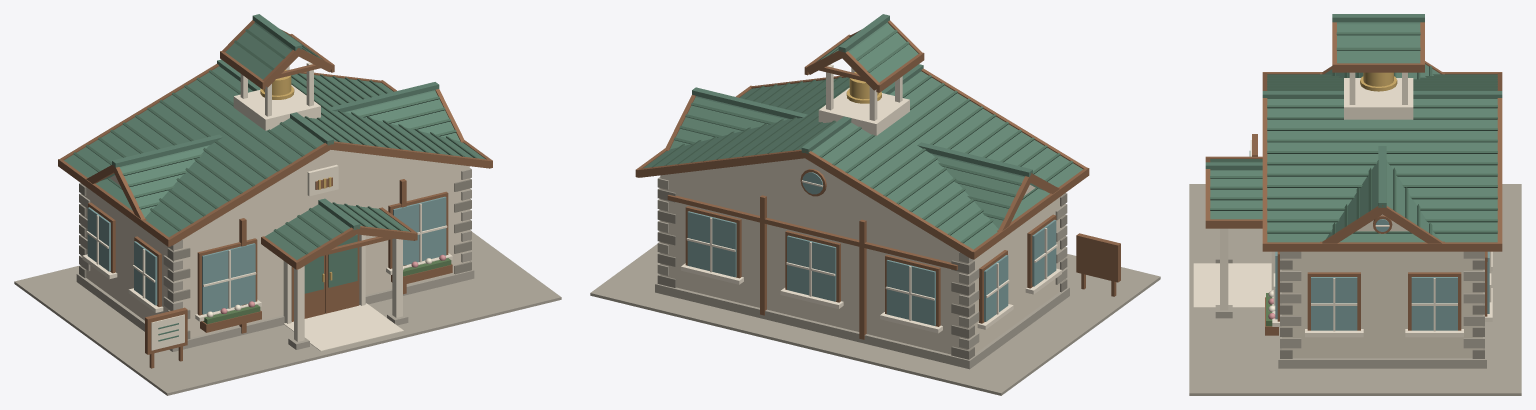
The model's file is town-hall.glb.
3 renders of one model, left to right at view 1: azimuth 30°, elevation 25°; view 2: azimuth 150°, elevation 25°; view 3: azimuth 270°, elevation 25°, orthographic. The views are drawn at different scales.
Parts seen in each view (by area): view 1: sage, stone, ivory, wood, trim, sageShade, glass, stoneShade, door-leaf-1, door-inlay-1, leaf, door-leaf--1 (+2 smaller); view 2: sage, ivory, stone, wood, glass, sageShade, trim, stoneShade, gold; view 3: sage, stone, sageShade, ivory, wood, trim, glass, stoneShade, gold.
Part boxes in pixels (left/top/right/bottom): sage: left=64, top=14, right=485, bottom=341; stone: left=14, top=168, right=561, bottom=395; ivory: left=81, top=150, right=469, bottom=337; wood: left=58, top=20, right=492, bottom=368; trim: left=82, top=62, right=452, bottom=351; sageShade: left=73, top=29, right=477, bottom=254; glass: left=87, top=196, right=446, bottom=314; stoneShade: left=79, top=178, right=471, bottom=339; door-leaf-1: left=325, top=234, right=359, bottom=313; door-inlay-1: left=328, top=234, right=357, bottom=287; leaf: left=203, top=258, right=451, bottom=324; door-leaf--1: left=291, top=255, right=325, bottom=321; sage: left=643, top=14, right=1082, bottom=249; ivory: left=660, top=158, right=1064, bottom=354; stone: left=590, top=177, right=1160, bottom=395; wood: left=635, top=20, right=1120, bottom=339; glass: left=687, top=172, right=1056, bottom=325; sageShade: left=652, top=30, right=1073, bottom=243; trim: left=681, top=64, right=1061, bottom=333; stoneShade: left=657, top=188, right=1067, bottom=359; gold: left=846, top=72, right=881, bottom=103; sage: left=1205, top=14, right=1502, bottom=242; stone: left=1189, top=184, right=1521, bottom=395; sageShade: left=1210, top=32, right=1497, bottom=234; ivory: left=1282, top=214, right=1482, bottom=358; wood: left=1205, top=22, right=1502, bottom=335; trim: left=1193, top=72, right=1492, bottom=337; glass: left=1275, top=219, right=1489, bottom=330; stoneShade: left=1280, top=258, right=1484, bottom=358; gold: left=1360, top=72, right=1397, bottom=91.
Bounding box in the file's own units: 12.8 × 7.87 × 8.6.
